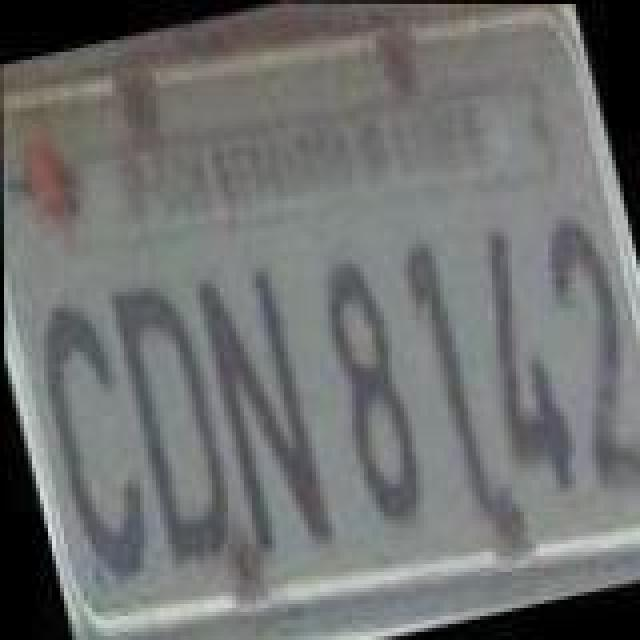1: (398, 238, 498, 518)
2: (532, 208, 640, 496)
4: (456, 222, 584, 506)
8: (310, 244, 434, 528)
C: (22, 288, 166, 592)
D: (100, 276, 244, 572)
N: (184, 256, 336, 564)
